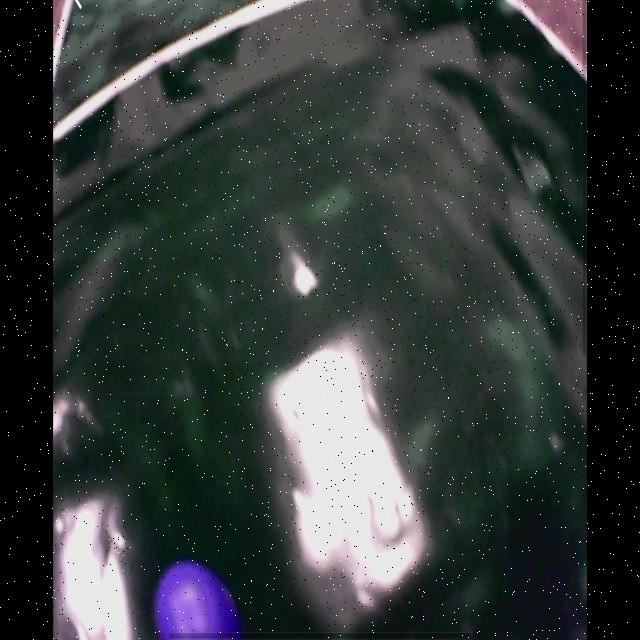ball: (155, 565, 238, 640)
